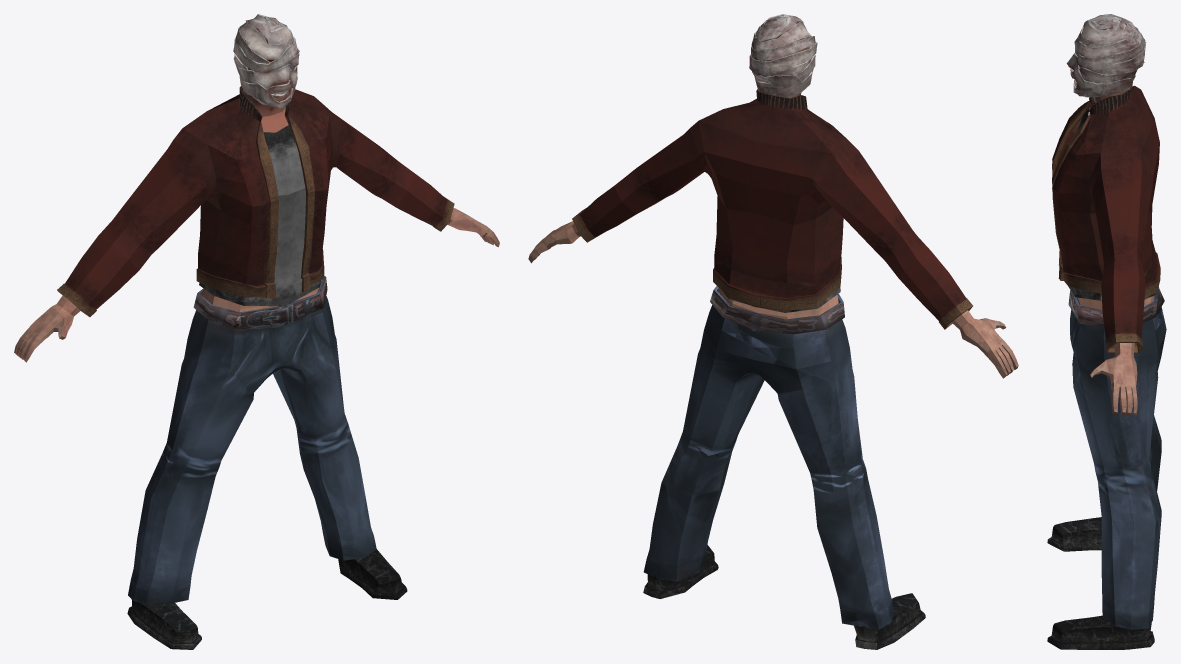
File: the buthcher19blend.fbx
3 renders of one model, left to right at view 1: azimuth 30°, elevation 25°; view 2: azimuth 150°, elevation 25°; view 3: azimuth 270°, elevation 25°, orthographic. The views are drawn at different scales.
Visible parts, largest first — view 1: Cube.003, Cube.004, Cube.006, Plane, Cube.005, Cube; view 2: Cube.004, Cube.003, Plane, Cube, Cube.005; view 3: Cube.004, Cube.003, Plane, Cube.005, Cube, Cube.006.
Part boxes in pixels (x1,y1,x2,y2): Cube.003: (128, 276, 376, 604); Cube.004: (57, 86, 454, 316); Cube.006: (199, 125, 320, 306); Plane: (233, 14, 299, 108); Cube.005: (127, 549, 407, 649); Cube: (14, 28, 499, 362); Cube.004: (572, 89, 972, 329); Cube.003: (643, 286, 893, 629); Plane: (749, 14, 817, 97); Cube: (528, 22, 1018, 378); Cube.005: (643, 545, 925, 649); Cube.004: (1052, 85, 1160, 353); Cube.003: (1068, 286, 1166, 629); Plane: (1066, 14, 1146, 97); Cube.005: (1047, 517, 1154, 649); Cube: (1068, 20, 1153, 415); Cube.006: (1068, 102, 1156, 300).
Bounding box in the file's own units: 1.4 × 1.65 × 0.3085.
